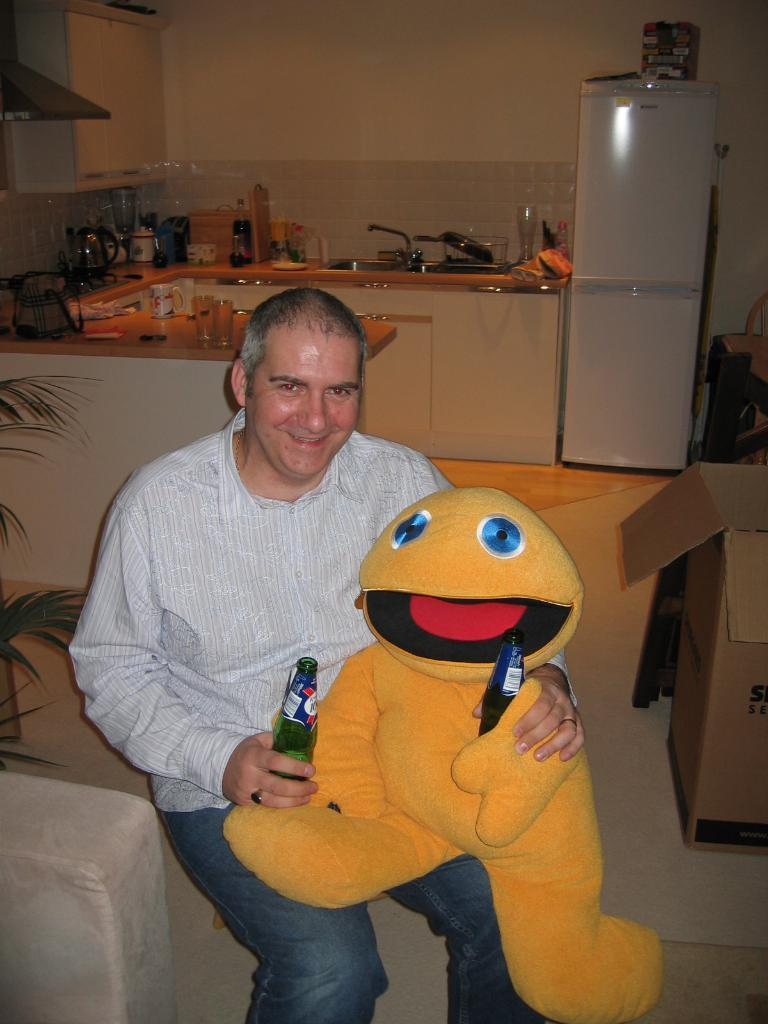cabinet_door: (437, 288, 558, 450), (345, 286, 438, 326)
handle: (575, 259, 699, 310)
